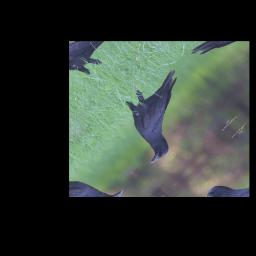Crow: (96, 58, 220, 166)
